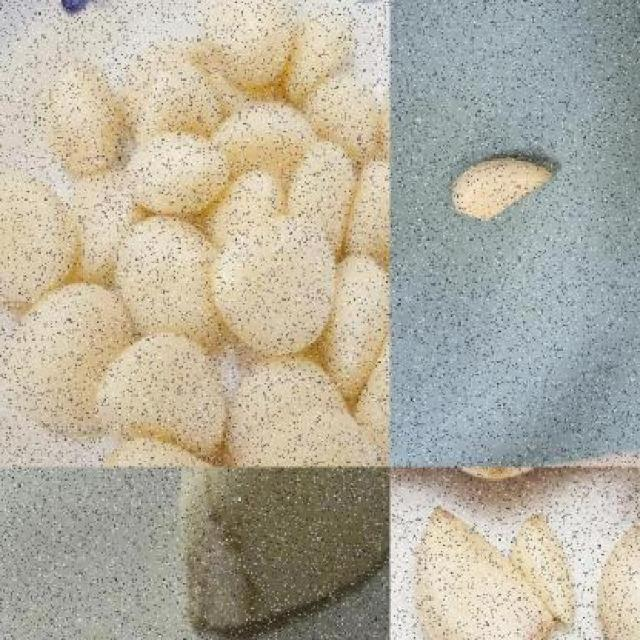garlic: (0, 0, 389, 466), (172, 467, 390, 638), (408, 504, 556, 640), (207, 215, 346, 358), (122, 130, 238, 208), (509, 512, 582, 634), (450, 153, 556, 224), (594, 522, 638, 640)
